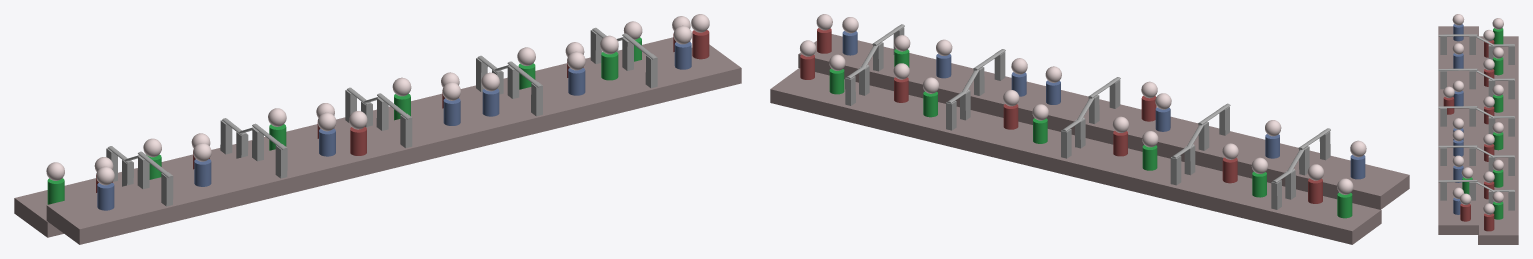
The model's file is kankyakuseki.fbx.
3 renders of one model, left to right at view 1: azimuth 30°, elevation 25°; view 2: azimuth 150°, elevation 25°; view 3: azimuth 270°, elevation 25°, orthographic. The views are drawn at different scales.
Parts seen in each view (by area): view 1: pCube2, pCube1, pCylinder8 (×11); view 2: pCube1, pCube2, pCylinder8 (×19); view 3: pCube2, pCube1, pCylinder8 (×21), pCube3 (×5), pCube5 (×5), pCube6 (×5), pCylinder1 (×5), pCube4 (×5), pSphere7, pSphere21, pSphere5, pSphere9 (+22 smaller).
Boxes of the visible parts, <box> form: pCube2: <box>46,44,741,244</box>; pCube1: <box>14,37,673,237</box>; pCylinder8 (×11): <box>47,30,709,210</box>; pCube1: <box>770,68,1381,244</box>; pCube2: <box>798,34,1409,209</box>; pCylinder8 (×19): <box>800,28,1365,218</box>; pCube2: <box>1438,26,1478,234</box>; pCube1: <box>1478,36,1518,244</box>; pCylinder8 (×21): <box>1443,24,1503,231</box>; pCube3 (×5): <box>1508,44,1514,210</box>; pCube5 (×5): <box>1469,36,1475,200</box>; pCube6 (×5): <box>1440,36,1446,200</box>; pCylinder1 (×5): <box>1438,34,1477,182</box>; pCube4 (×5): <box>1488,44,1495,204</box>; pSphere7: <box>1492,122,1503,133</box>; pSphere21: <box>1452,129,1464,141</box>; pSphere5: <box>1452,155,1464,166</box>; pSphere9: <box>1483,134,1494,145</box>.
Size of the model in its own units: 1.83 by 0.194 by 0.3123.
